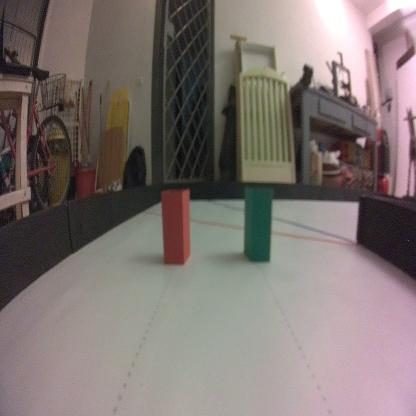green: (241, 182, 274, 270)
red: (159, 186, 192, 269)
